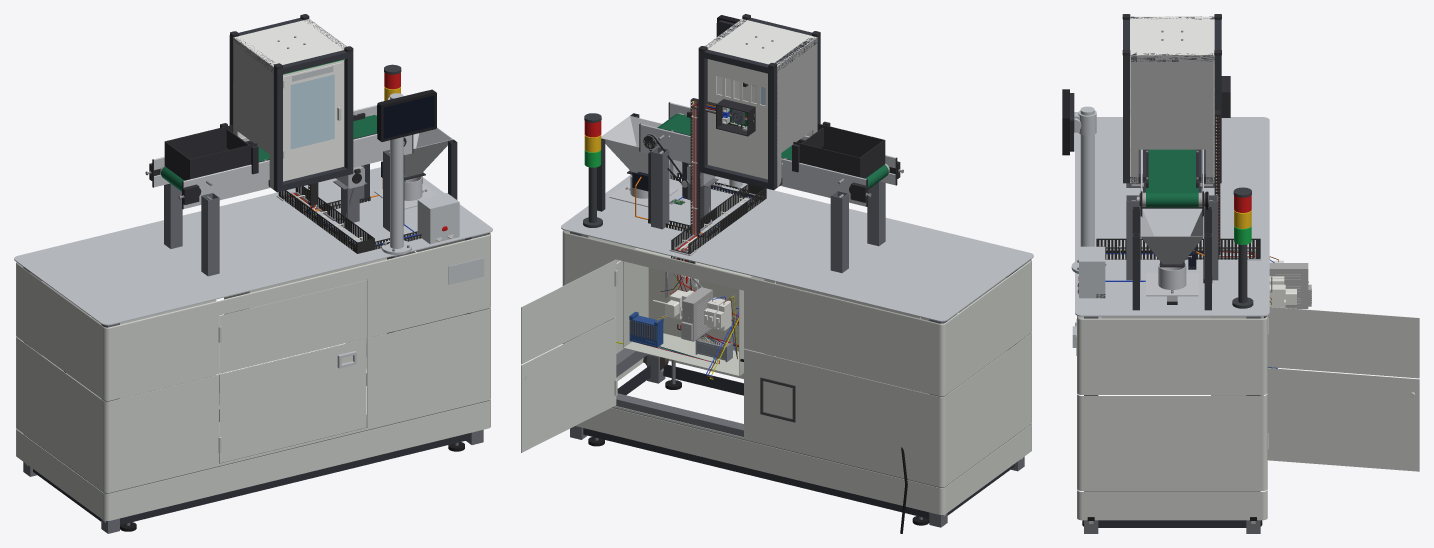
Rendered from VisionStation.glb.
3 views of the same model, side by side, from view 1: azimuth 30°, elevation 25°; view 2: azimuth 150°, elevation 25°; view 3: azimuth 270°, elevation 25° (orthographic). The views are drawn at different scales.
Parts seen in each view (by area): view 1: 621 Оболочка корпуса — сталь 1,5 мм, порошковая окраска RAL , 634 Столешница — нержавейка 3 мм шлифованная, радиус 22, люч, 623 Сервисная дверца передняя — сегмент оболочки (закрыта), 039 Торец капота вход — верх над окном ленты, 008 Боковина А — алюминий 5 анодированный, паз натяжения 50×, 045 Крыша капота — алюминиевый композит 3 мм белый, 611 Окно дверцы капота — оргстекло 3 мм прозрачное, 633 Юбка корпуса — антрацит RAL 7016, закрывает колёса, 486 Дверца капота — композит белый, окно 150×210 (закрыта), 037 Стенка капота А — алюминиевый композит 3 мм белый, венти, 646 Пульт наклонный 30° — нержавейка, с лицевой панелью под , 311 Дисплей — стекло сенсора (+19 smaller); view 2: 621 Оболочка корпуса — сталь 1,5 мм, порошковая окраска RAL , 634 Столешница — нержавейка 3 мм шлифованная, радиус 22, люч, 622 Дверца отсека электрики — сегмент оболочки, открыта на 1, 038 Стенка капота Б — алюминиевый композит 3 мм белый, венти, 633 Юбка корпуса — антрацит RAL 7016, закрывает колёса, 039 Торец капота вход — верх над окном ленты, 009 Боковина Б — алюминий 5 анодированный, паз натяжения 50×, 045 Крыша капота — алюминиевый композит 3 мм белый, 005 Поперечина вдоль X, 173 Шкаф — дно, 175 Шкаф — монтажная панель оцинкованная 2, 051 Воронка — нержавейка 1 мм, сварная, полировка (вместо пе (+16 smaller); view 3: 621 Оболочка корпуса — сталь 1,5 мм, порошковая окраска RAL , 622 Дверца отсека электрики — сегмент оболочки, открыта на 1, 634 Столешница — нержавейка 3 мм шлифованная, радиус 22, люч, 042 Торец капота выход — верх над окном ленты, 045 Крыша капота — алюминиевый композит 3 мм белый, 051 Воронка — нержавейка 1 мм, сварная, полировка (вместо пе, 061 Лента ПВХ 150×2 бесконечная — кольцо вокруг роликов, 636 Стойка HMI — труба Ø40 нержавейка, 646 Пульт наклонный 30° — нержавейка, с лицевой панелью под , 633 Юбка корпуса — антрацит RAL 7016, закрывает колёса, 352 Блок питания 24 В 5 А Mean Well SDR-120 (покупной) — кор, 596 Профиль алюминиевый 20×20 станочный — стойка капота (+12 smaller).
Part boxes in pixels (x1,y1,x2,y2): 621 Оболочка корпуса — сталь 1,5 мм, порошковая окраска RAL : (16,232,490,520); 634 Столешница — нержавейка 3 мм шлифованная, радиус 22, люч: (14,167,492,325); 623 Сервисная дверца передняя — сегмент оболочки (закрыта): (219,280,366,463); 039 Торец капота вход — верх над окном ленты: (233,37,273,156); 008 Боковина А — алюминий 5 анодированный, паз натяжения 50×: (183,134,412,208); 045 Крыша капота — алюминиевый композит 3 мм белый: (234,19,345,66); 611 Окно дверцы капота — оргстекло 3 мм прозрачное: (290,74,334,149); 633 Юбка корпуса — антрацит RAL 7016, закрывает колёса: (33,373,469,524); 486 Дверца капота — композит белый, окно 150×210 (закрыта): (283,62,342,161); 037 Стенка капота А — алюминиевый композит 3 мм белый, венти: (273,49,344,189); 646 Пульт наклонный 30° — нержавейка, с лицевой панелью под : (417,193,459,244); 311 Дисплей — стекло сенсора: (383,95,433,138); 621 Оболочка корпуса — сталь 1,5 мм, порошковая окраска RAL : (562,230,1031,514); 634 Столешница — нержавейка 3 мм шлифованная, радиус 22, люч: (561,165,1033,321); 622 Дверца отсека электрики — сегмент оболочки, открыта на 1: (521,260,616,452); 038 Стенка капота Б — алюминиевый композит 3 мм белый, венти: (707,49,777,179); 633 Юбка корпуса — антрацит RAL 7016, закрывает колёса: (583,364,1014,518); 039 Торец капота вход — верх над окном ленты: (777,37,816,155); 009 Боковина Б — алюминий 5 анодированный, паз натяжения 50×: (640,124,866,206); 045 Крыша капота — алюминиевый композит 3 мм белый: (705,19,816,65); 005 Поперечина вдоль X: (612,393,928,484); 173 Шкаф — дно: (624,333,742,376); 175 Шкаф — монтажная панель оцинкованная 2: (651,268,738,349); 051 Воронка — нержавейка 1 мм, сварная, полировка (вместо пе: (601,116,662,173); 621 Оболочка корпуса — сталь 1,5 мм, порошковая окраска RAL : (1077,315,1267,520); 622 Дверца отсека электрики — сегмент оболочки, открыта на 1: (1266,307,1419,471); 634 Столешница — нержавейка 3 мм шлифованная, радиус 22, люч: (1075,117,1269,316); 042 Торец капота выход — верх над окном ленты: (1130,55,1214,149); 045 Крыша капота — алюминиевый композит 3 мм белый: (1130,16,1214,56); 051 Воронка — нержавейка 1 мм, сварная, полировка (вместо пе: (1140,208,1203,264); 061 Лента ПВХ 150×2 бесконечная — кольцо вокруг роликов: (1146,149,1198,207); 636 Стойка HMI — труба Ø40 нержавейка: (1080,106,1094,246); 646 Пульт наклонный 30° — нержавейка, с лицевой панелью под : (1079,246,1105,298); 633 Юбка корпуса — антрацит RAL 7016, закрывает колёса: (1098,520,1246,527); 352 Блок питания 24 В 5 А Mean Well SDR-120 (покупной) — кор: (1269,263,1308,308); 596 Профиль алюминиевый 20×20 станочный — стойка капота: (1123,55,1129,183).
Size of the model in its own units: 1332 by 1336 by 1013.
